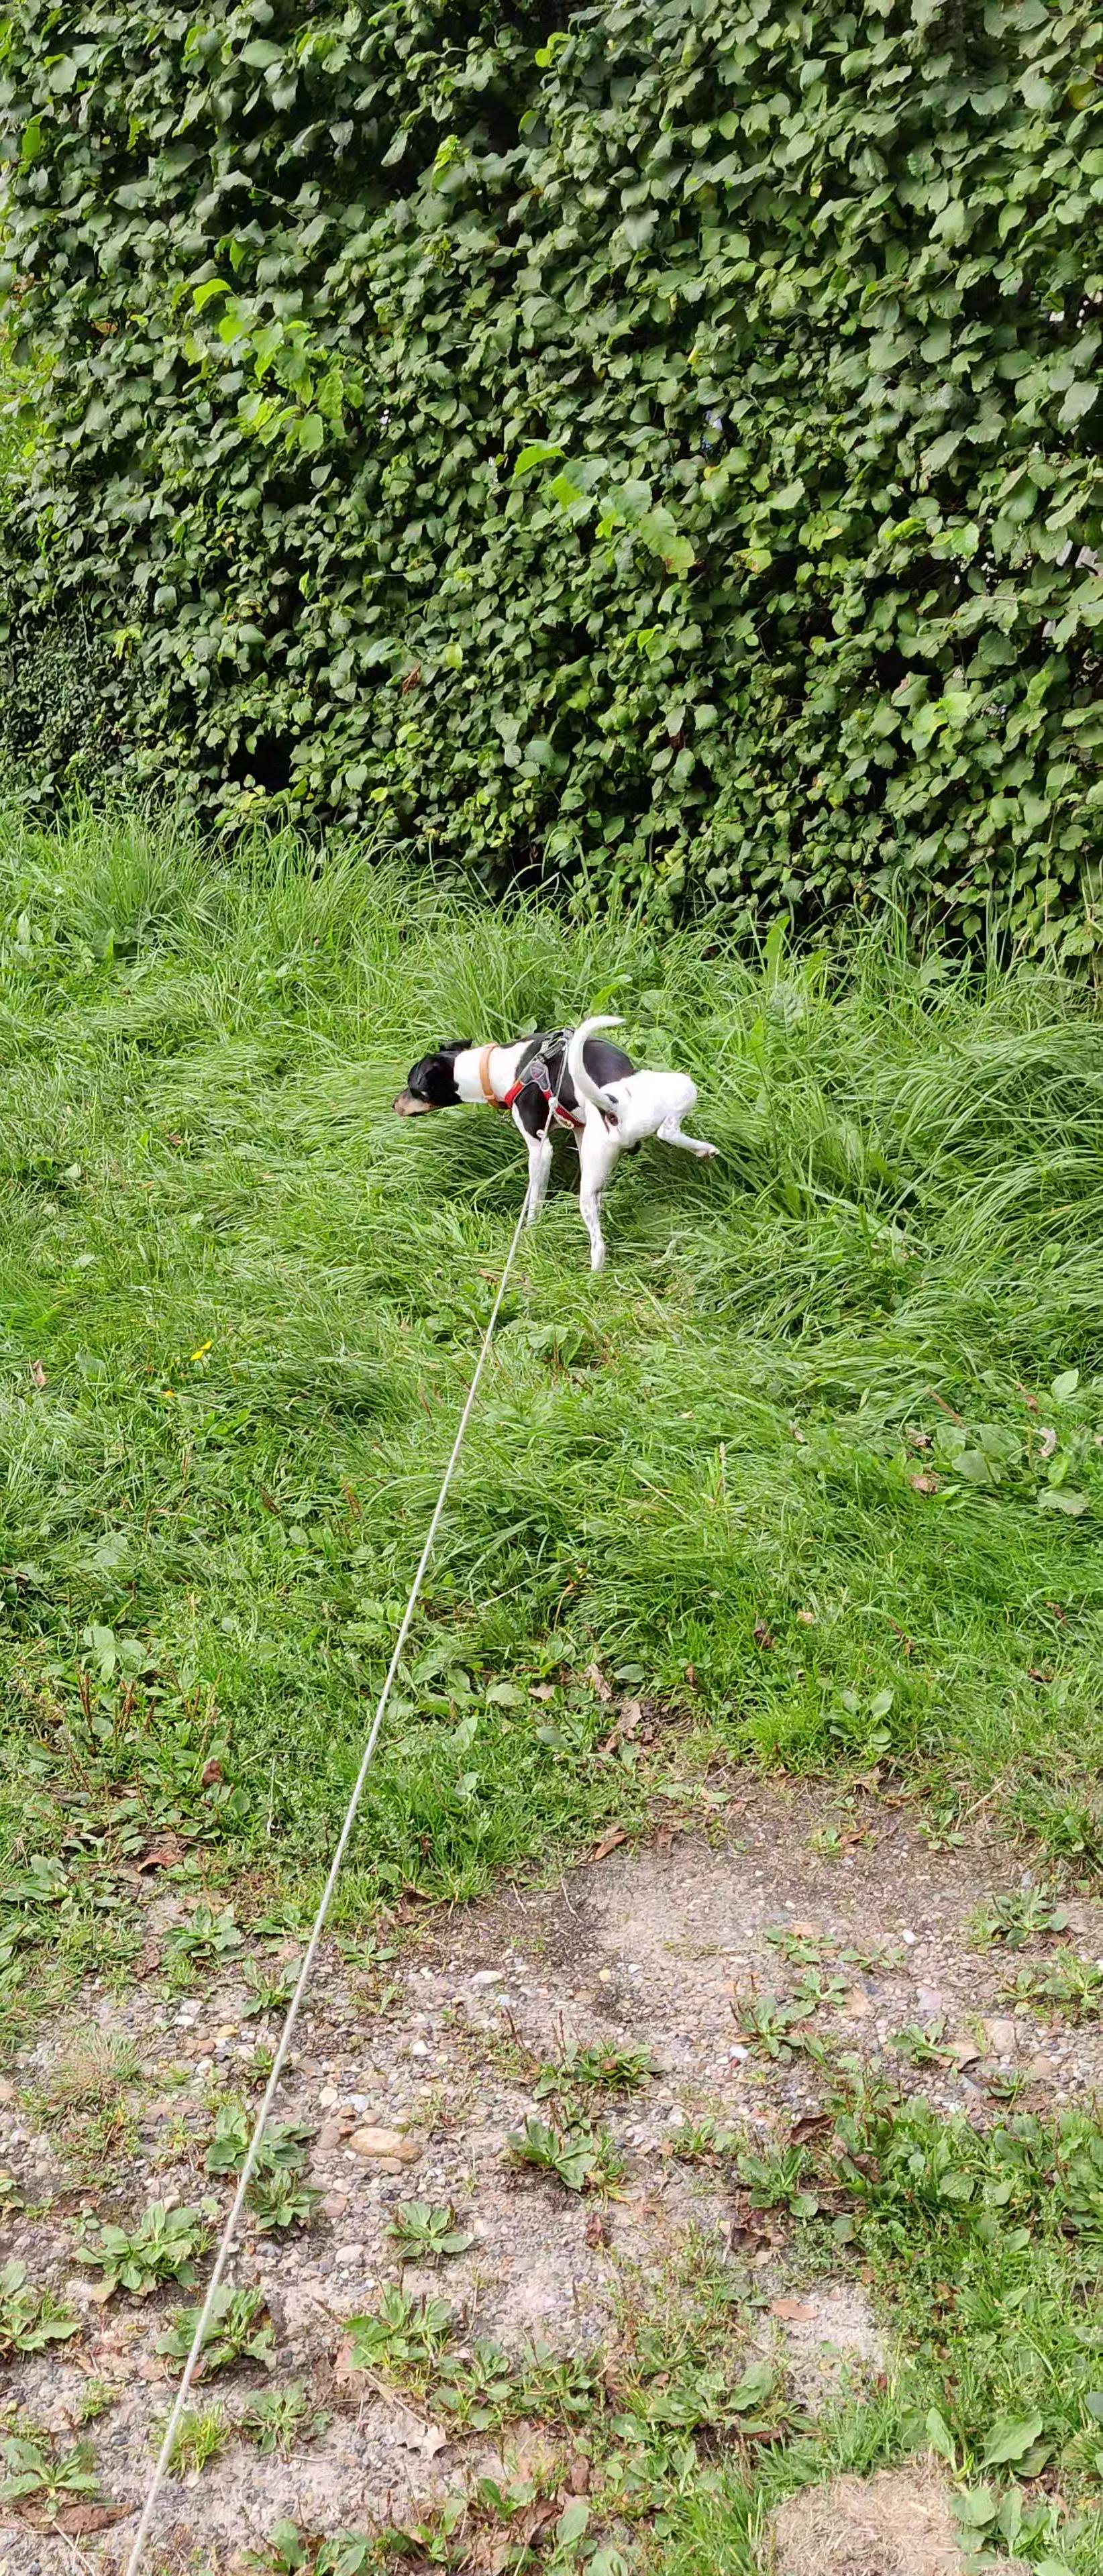Dog: (385, 1010, 727, 1275)
